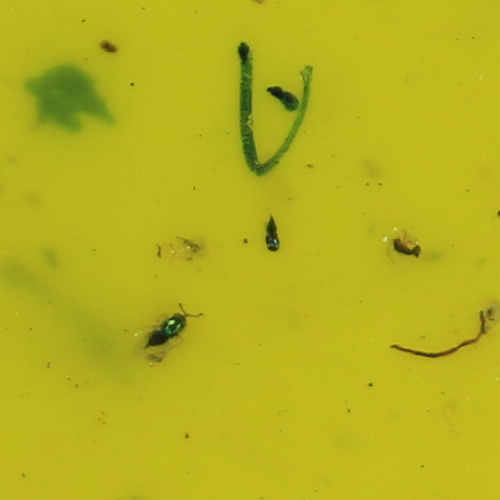Psyllaephagus: (142, 311, 190, 351)
